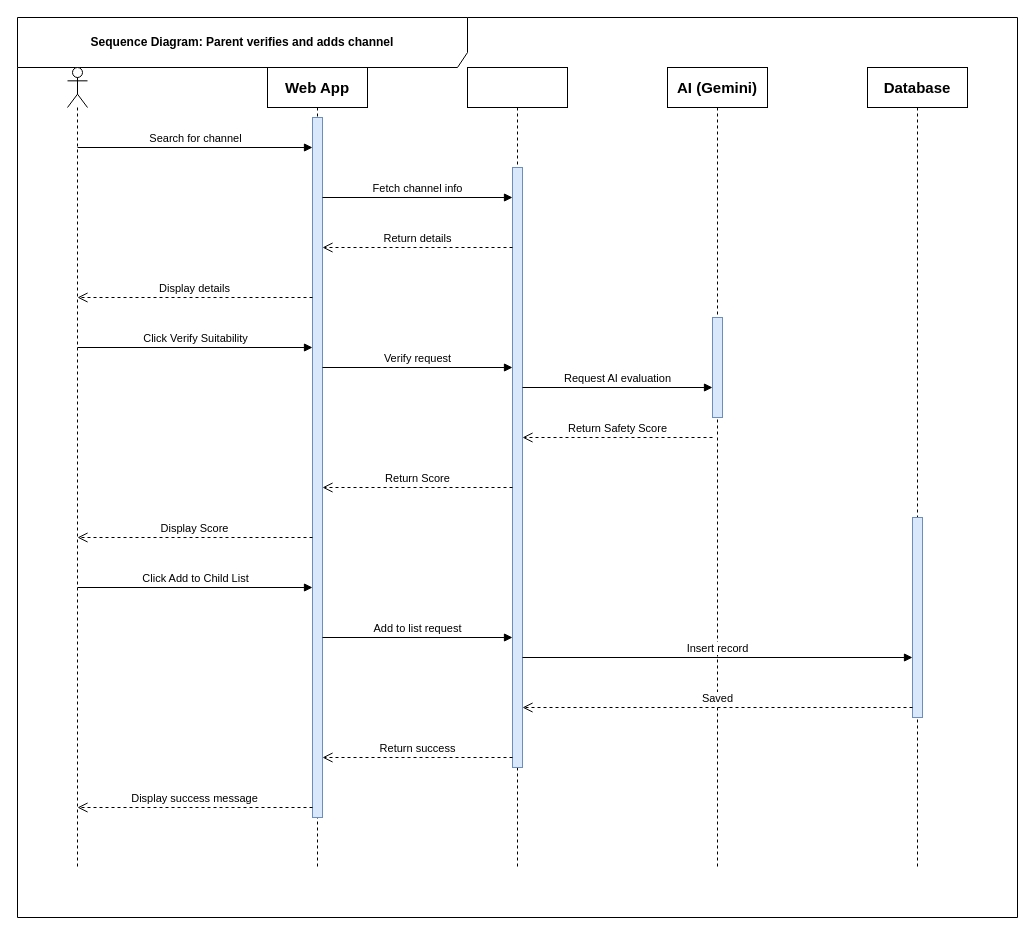
Some shapes in this 1035 by 935 pixel diagram are drawn without their labels. Here are the shapes that lost their labels. From the top down, the box of each, then its label:
(66, 66, 88, 868): Parent
(466, 66, 568, 868): System
